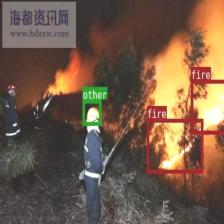fire: (146, 118, 203, 172), (190, 79, 224, 134)
